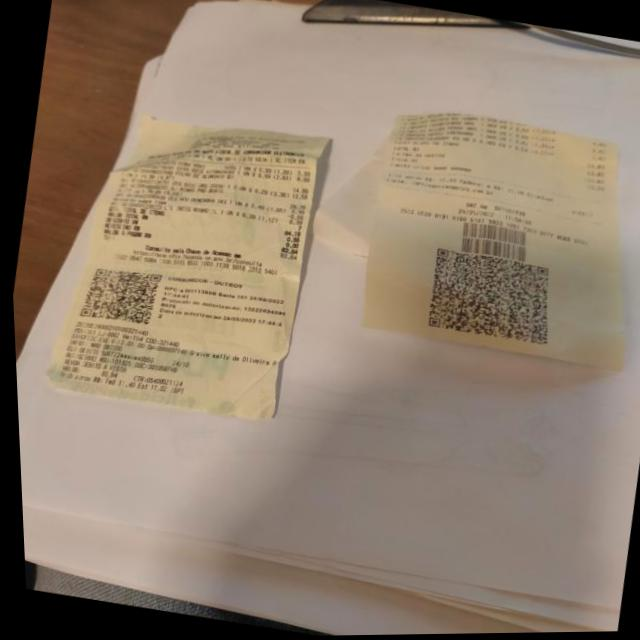qrcode: (422, 248, 558, 349), (76, 263, 162, 329)
